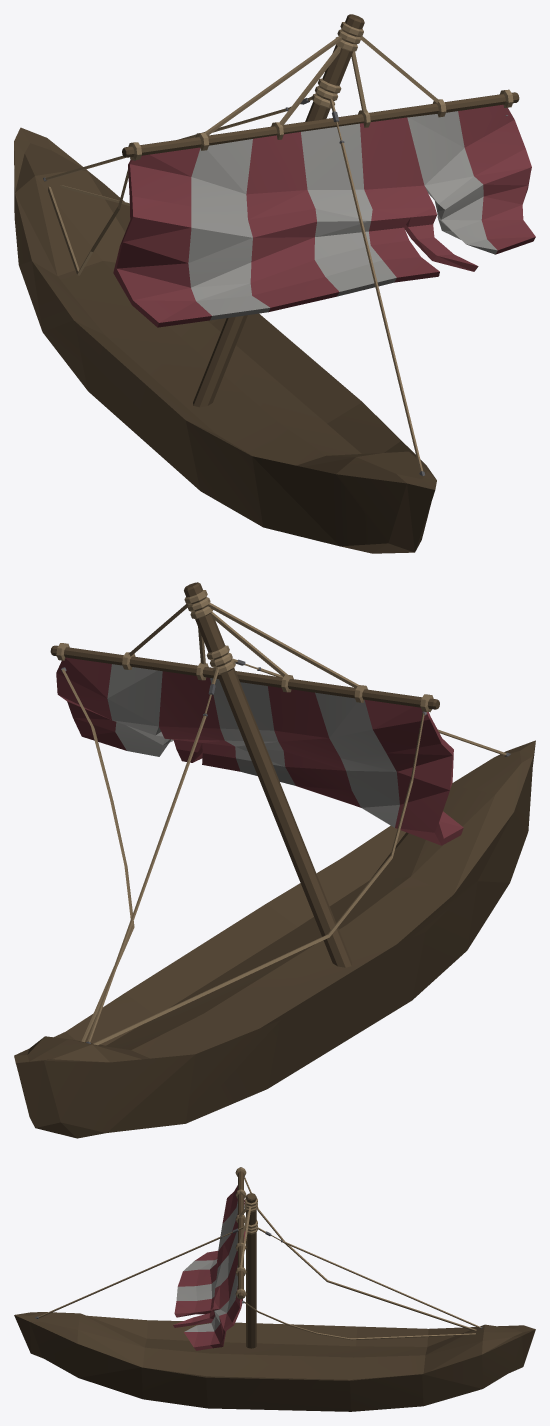
Rendered from Barco_roto.glb.
3 views of the same model, one above another, from view 1: azimuth 30°, elevation 25°; view 2: azimuth 150°, elevation 25°; view 3: azimuth 270°, elevation 25° (orthographic). The views are drawn at different scales.
Visible parts, largest first — view 1: SM_Prop_Boat_Broken_02; view 2: SM_Prop_Boat_Broken_02; view 3: SM_Prop_Boat_Broken_02.
Boxes of the visible parts, <box> form: SM_Prop_Boat_Broken_02: <box>14,14,535,553</box>; SM_Prop_Boat_Broken_02: <box>14,582,535,1138</box>; SM_Prop_Boat_Broken_02: <box>14,1167,535,1411</box>.
Size of the model in its own units: 7.16 by 7.18 by 14.57.
1 material, 1 textured.
